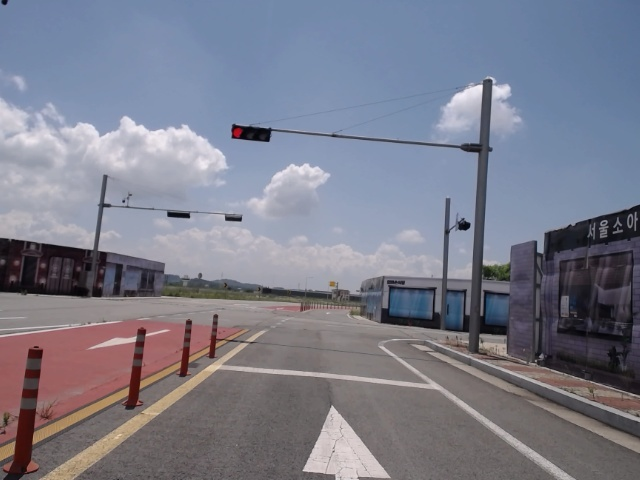red_3: (230, 124, 271, 143)
